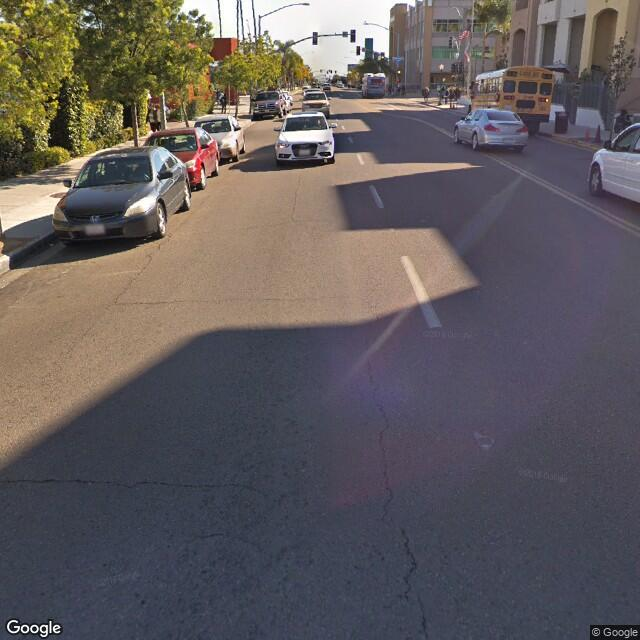road line: (365, 175, 465, 350)
